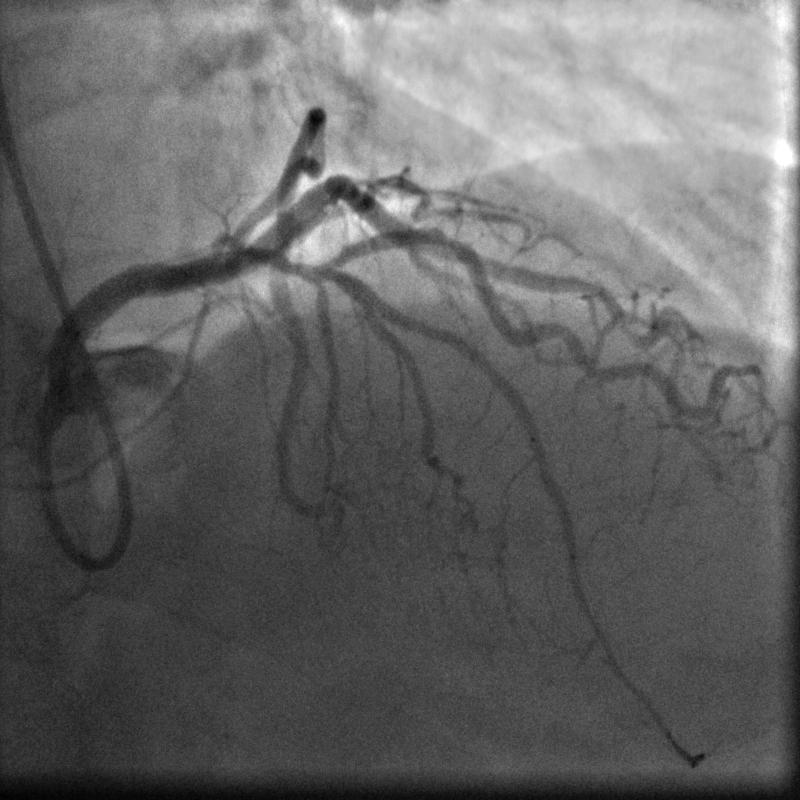Stenosis: (425, 222, 466, 260)
